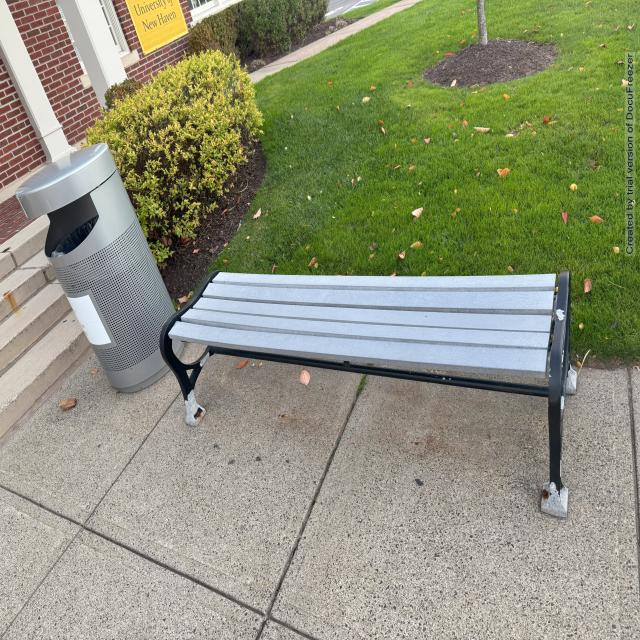Trash bin: (9, 124, 172, 456)
chair: (160, 247, 586, 519)
